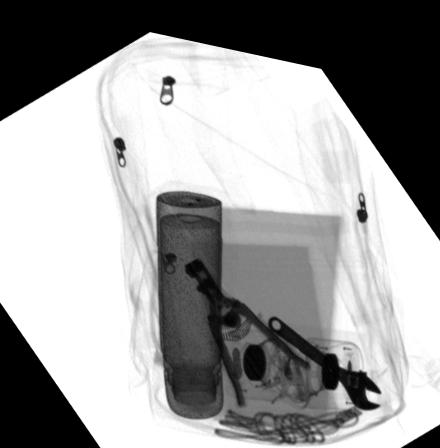Pliers: (183, 245, 311, 397)
Wrench: (267, 302, 382, 392)
